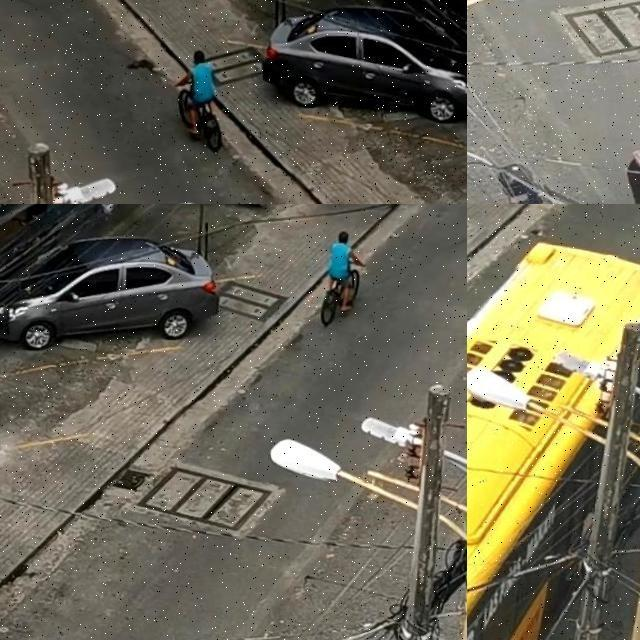Others: (467, 230, 640, 640)
